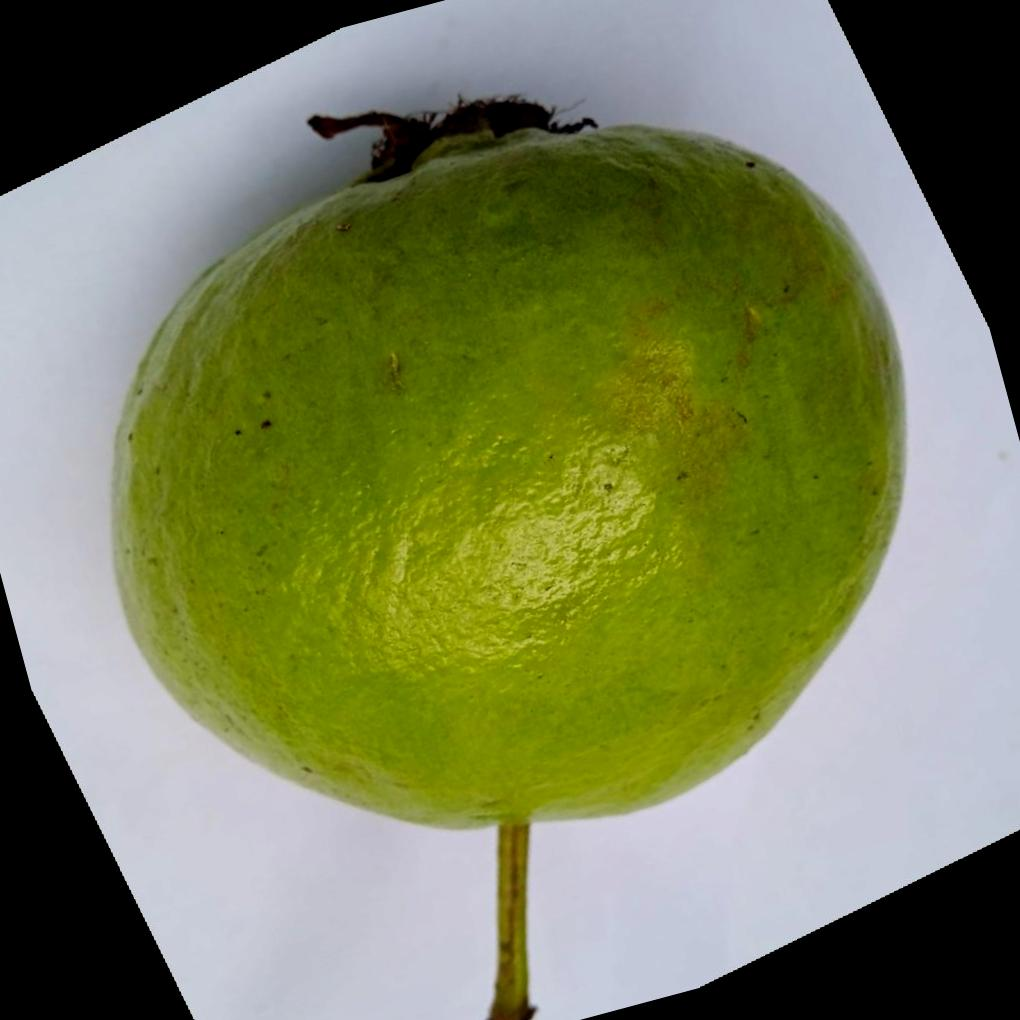FreshGuava: (104, 98, 905, 837)
